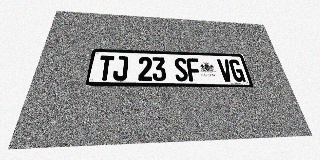2: (138, 57, 152, 81)
3: (152, 57, 166, 81)
F: (186, 58, 202, 81)
G: (228, 59, 246, 82)
J: (112, 56, 128, 81)
S: (174, 58, 189, 81)
T: (97, 55, 114, 81)
V: (217, 59, 234, 82)
